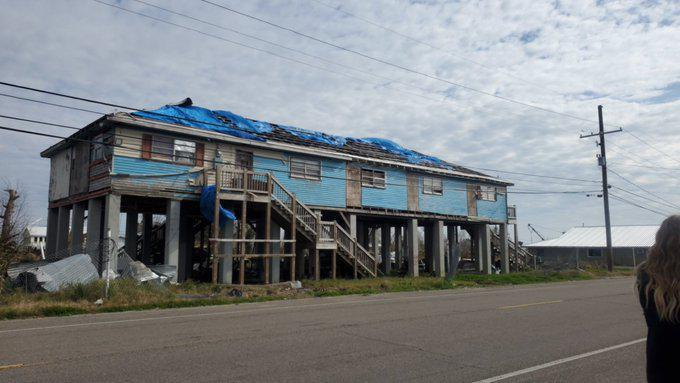major: (28, 88, 519, 318)
